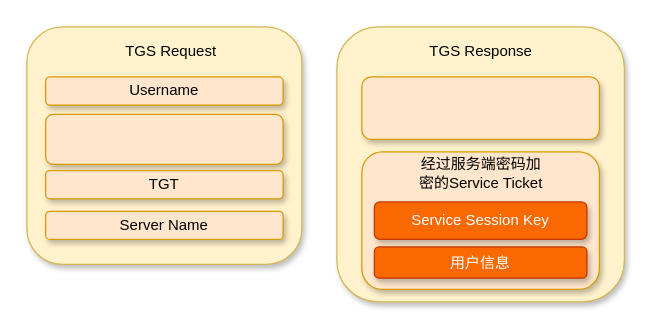
Some shapes in this 654 by 333 pixel diagram are drawn without their labels. Here are the shapes that lost their labels. From the top down, the centre of each, then its label:
point 481,109: Logon Session Key加密后的Service Session Key
point 165,140: Logon Session Key加密后的Authenticator
